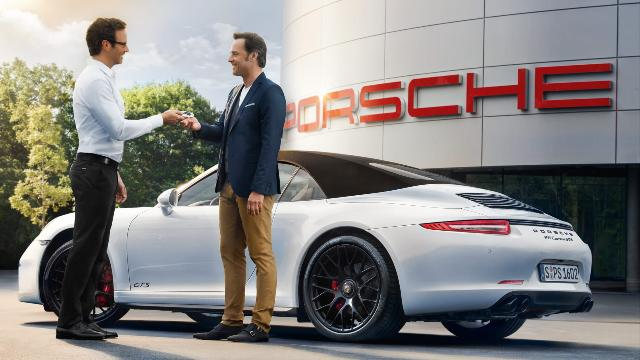porsche: (18, 150, 594, 342)
